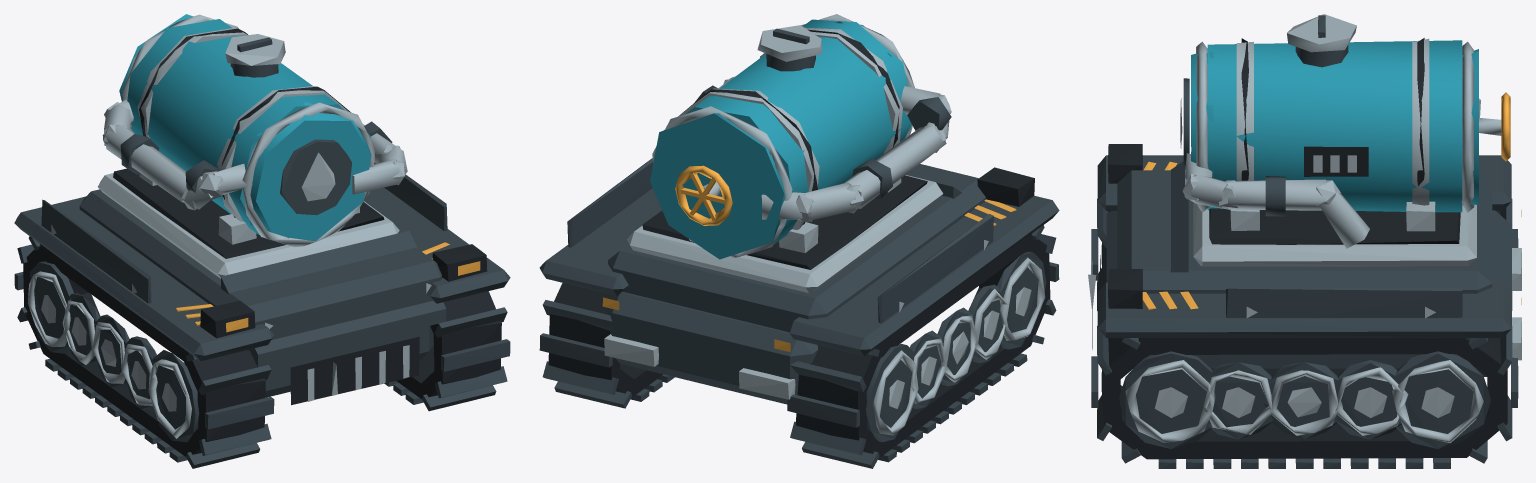
File: utilitank-water.glb
3 views of the same model, side by side, from view 1: azimuth 30°, elevation 25°; view 2: azimuth 150°, elevation 25°; view 3: azimuth 270°, elevation 25° (orthographic). The views are drawn at different scales.
Parts seen in each view (by area): view 1: utilitank-water__01_graphite_armor, utilitank-water__02_brushed_titanium, utilitank-water__03_tread_and_recess, utilitank-water__04_water_reservoir, utilitank-water__05_caution_amber; view 2: utilitank-water__01_graphite_armor, utilitank-water__02_brushed_titanium, utilitank-water__04_water_reservoir, utilitank-water__03_tread_and_recess, utilitank-water__05_caution_amber; view 3: utilitank-water__01_graphite_armor, utilitank-water__02_brushed_titanium, utilitank-water__04_water_reservoir, utilitank-water__03_tread_and_recess, utilitank-water__05_caution_amber.
Boxes of the visible parts, bbox=[...] form: utilitank-water__01_graphite_armor: bbox=[14, 37, 510, 468]; utilitank-water__02_brushed_titanium: bbox=[28, 14, 431, 438]; utilitank-water__03_tread_and_recess: bbox=[23, 28, 501, 456]; utilitank-water__04_water_reservoir: bbox=[119, 14, 371, 240]; utilitank-water__05_caution_amber: bbox=[176, 242, 480, 332]; utilitank-water__01_graphite_armor: bbox=[539, 28, 1059, 468]; utilitank-water__02_brushed_titanium: bbox=[604, 14, 1045, 435]; utilitank-water__04_water_reservoir: bbox=[650, 19, 911, 259]; utilitank-water__03_tread_and_recess: bbox=[548, 29, 1050, 457]; utilitank-water__05_caution_amber: bbox=[602, 165, 1016, 352]; utilitank-water__01_graphite_armor: bbox=[1091, 15, 1518, 468]; utilitank-water__02_brushed_titanium: bbox=[1088, 14, 1521, 443]; utilitank-water__04_water_reservoir: bbox=[1191, 40, 1478, 212]; utilitank-water__03_tread_and_recess: bbox=[1099, 38, 1507, 459]; utilitank-water__05_caution_amber: bbox=[1142, 92, 1521, 309].
Bounding box in the file's own units: 1.04 × 1.03 × 1.12.
